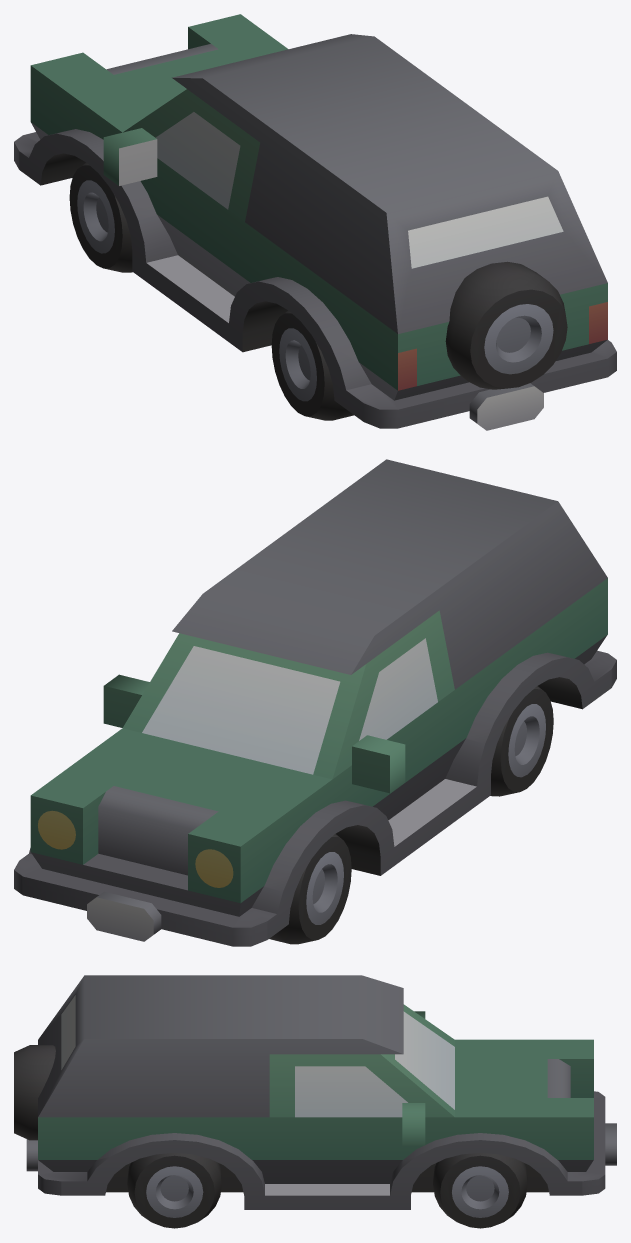
Rendered from suv.glb.
3 renders of one model, top to bottom at view 1: azimuth 30°, elevation 25°; view 2: azimuth 150°, elevation 25°; view 3: azimuth 270°, elevation 25°, orthographic. The views are drawn at different scales.
Visible parts, largest first — view 1: body, wheel-back, wheel-back-left, wheel-front-left; view 2: body, wheel-front-left, wheel-back-left; view 3: body, wheel-back-right, wheel-front-right, wheel-back.
Boxes of the visible parts, x1,y1,x2,y2 form: body: [14, 14, 616, 430]; wheel-back: [445, 261, 567, 389]; wheel-back-left: [271, 310, 353, 420]; wheel-front-left: [69, 162, 132, 272]; body: [14, 459, 616, 946]; wheel-front-left: [269, 834, 351, 944]; wheel-back-left: [490, 686, 553, 796]; body: [26, 975, 616, 1209]; wheel-back-right: [127, 1153, 221, 1228]; wheel-front-right: [433, 1153, 527, 1228]; wheel-back: [14, 1045, 55, 1140].
Bounding box in the file's own units: 1.9 × 1.56 × 4.58.
1 material, 1 textured.
